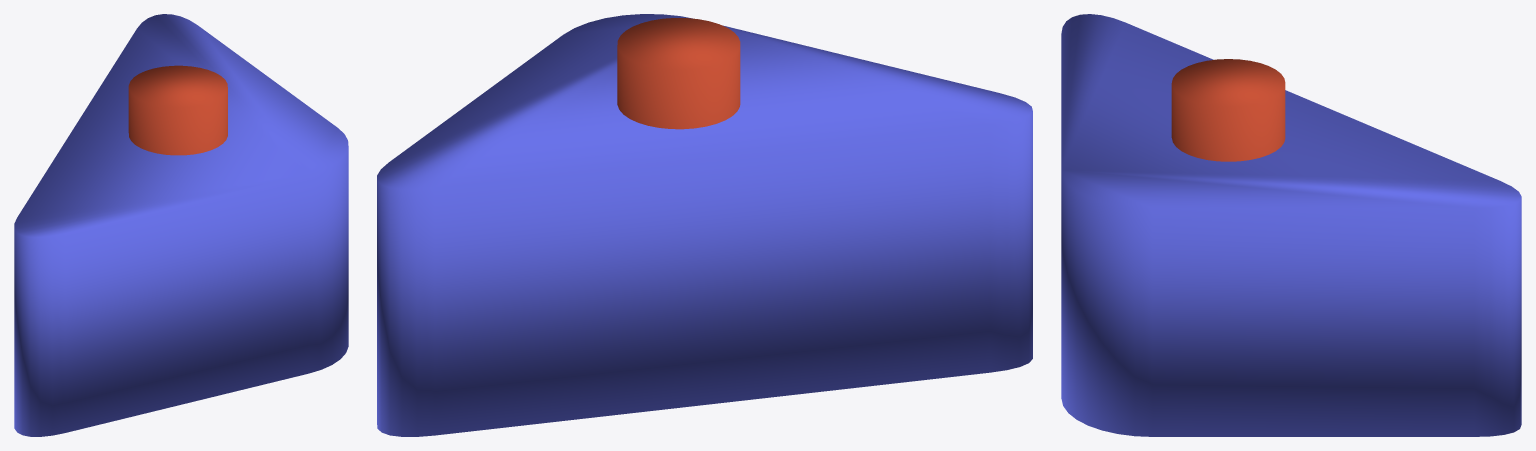
File: triangle.fbx
3 views of the same model, side by side, from view 1: azimuth 30°, elevation 25°; view 2: azimuth 150°, elevation 25°; view 3: azimuth 270°, elevation 25° (orthographic). The views are drawn at different scales.
Visible parts, largest first — view 1: Плоскость.001, Цилиндр; view 2: Плоскость.001, Цилиндр; view 3: Плоскость.001, Цилиндр.
Part boxes in pixels (<box>): Плоскость.001: <box>14,14,348,436</box>; Цилиндр: <box>128,65,227,155</box>; Плоскость.001: <box>377,14,1032,436</box>; Цилиндр: <box>617,18,740,129</box>; Плоскость.001: <box>1061,14,1521,436</box>; Цилиндр: <box>1171,59,1285,161</box>.
Bounding box in the file's own units: 83.43 × 56.67 × 83.43.
